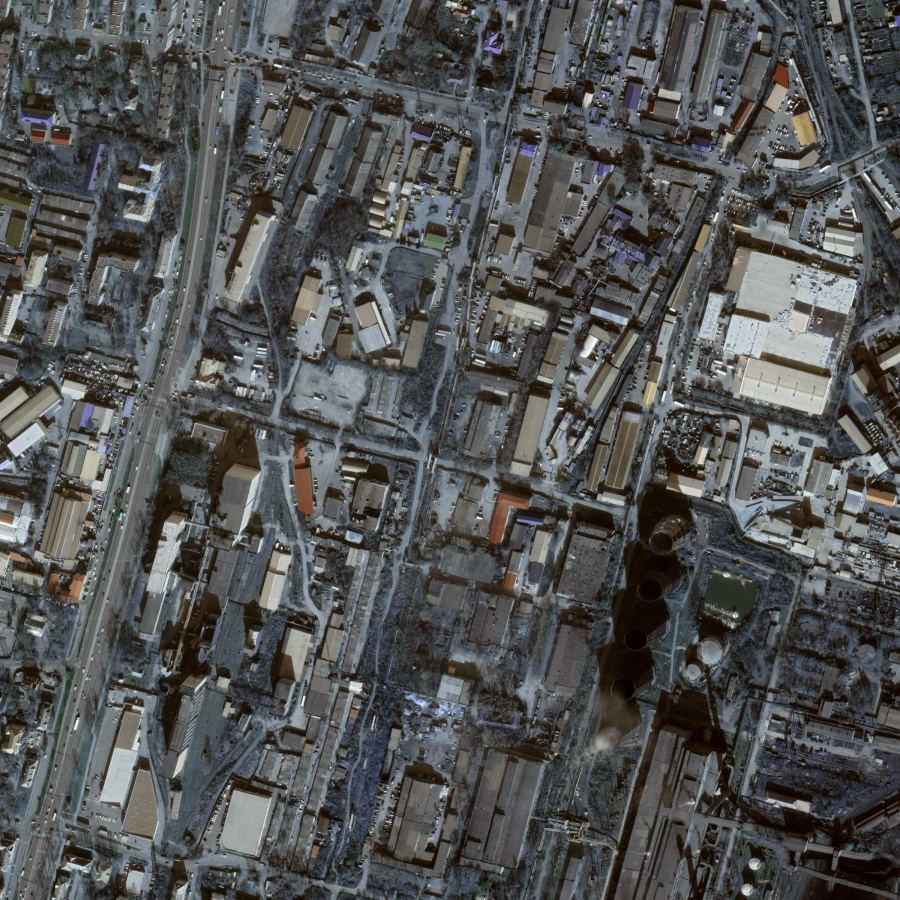PowerPlant: (565, 466, 735, 805)
